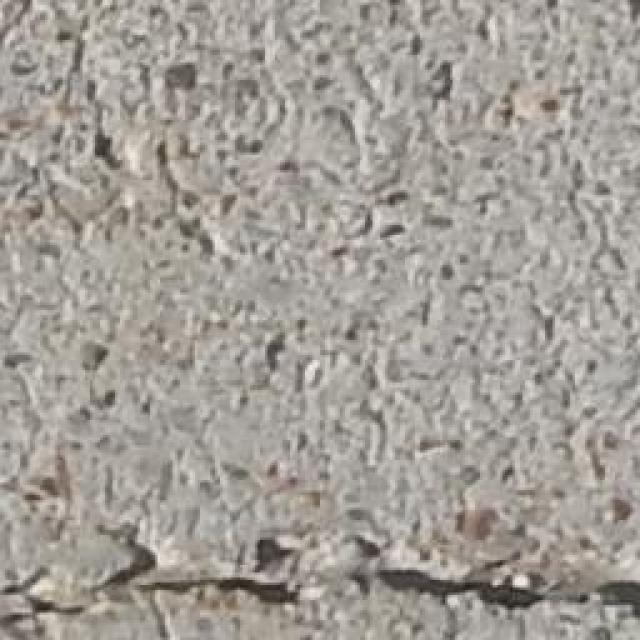concrete-crack: (3, 522, 640, 640)
